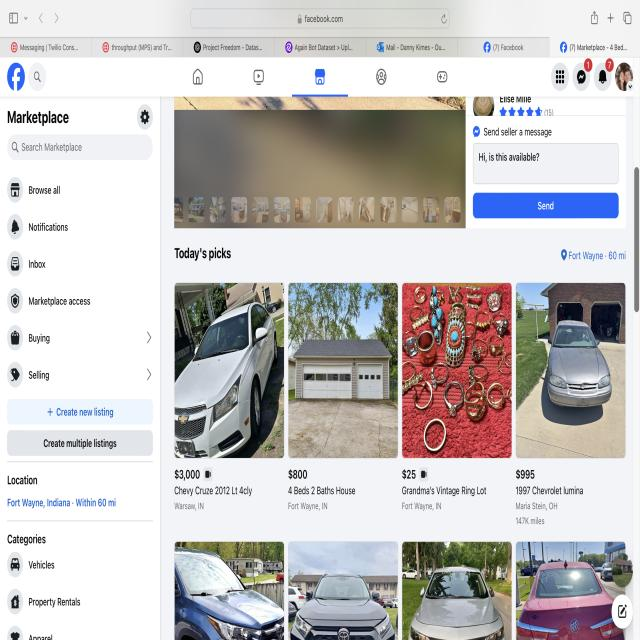message_button: (474, 194, 617, 216)
